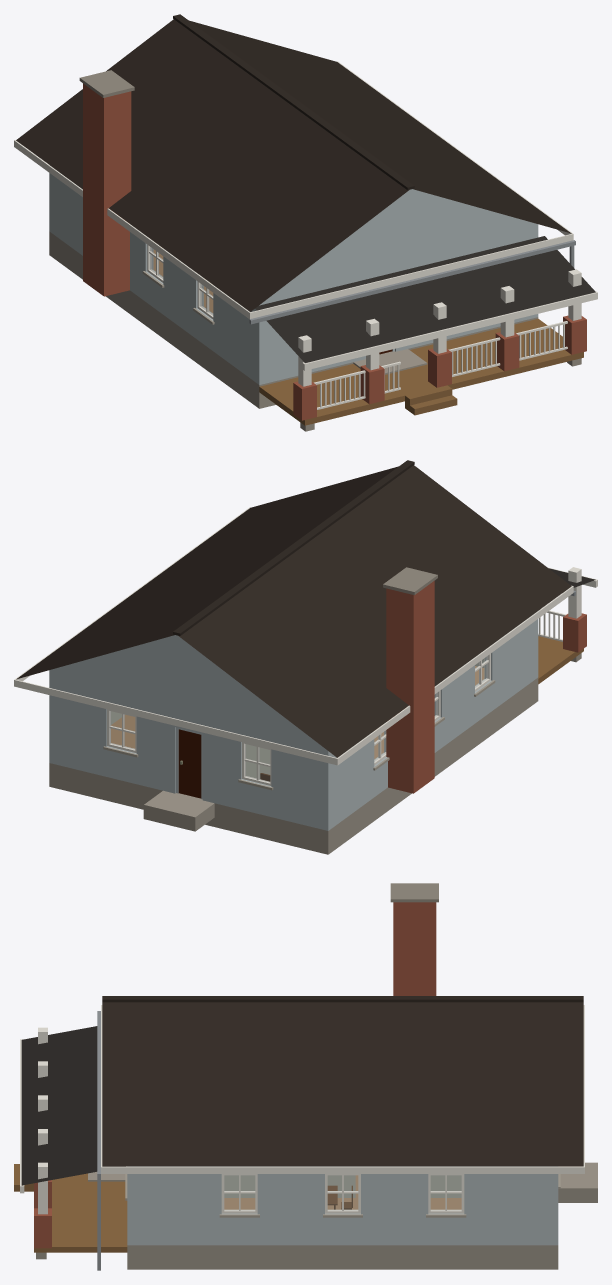
The model's file is bungalow.glb.
3 renders of one model, top to bottom at view 1: azimuth 30°, elevation 25°; view 2: azimuth 150°, elevation 25°; view 3: azimuth 270°, elevation 25°, orthographic. The views are drawn at different scales.
Parts seen in each view (by area): view 1: LOD0; view 2: LOD0, LEAF1; view 3: LOD0.
Part boxes in pixels (left/top/right/bottom): LOD0: left=14, top=14, right=597, bottom=431; LOD0: left=14, top=460, right=597, bottom=854; LEAF1: left=178, top=729, right=201, bottom=798; LOD0: left=14, top=883, right=597, bottom=1270.
Size of what is drawn, in the model's own units: 10.88 by 7.15 by 16.26.
